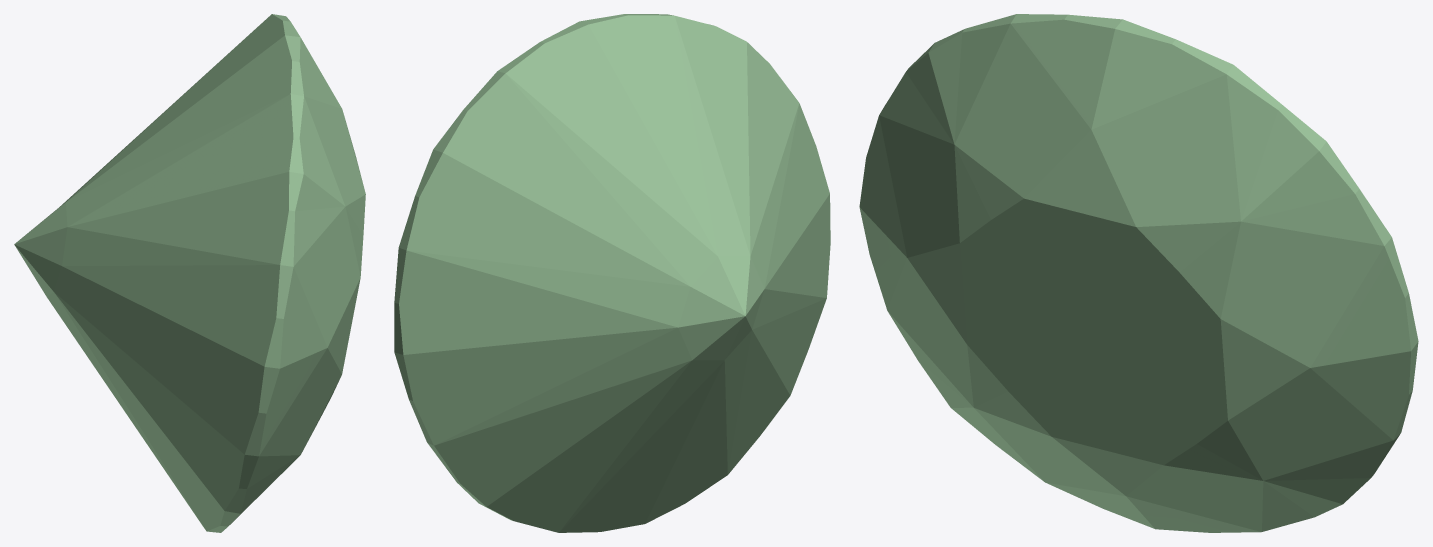
Rendered from TR4_8shapes_Round_Classic_Stone.001 3.glb.
3 views of the same model, side by side, from view 1: azimuth 30°, elevation 25°; view 2: azimuth 150°, elevation 25°; view 3: azimuth 270°, elevation 25° (orthographic). The views are drawn at different scales.
Visible parts, largest first — view 1: TR4_8shapes_Round_Classic_Stone.001; view 2: TR4_8shapes_Round_Classic_Stone.001; view 3: TR4_8shapes_Round_Classic_Stone.001.
Part boxes in pixels (x1,y1,x2,y2): TR4_8shapes_Round_Classic_Stone.001: (14, 14, 365, 532); TR4_8shapes_Round_Classic_Stone.001: (394, 14, 830, 532); TR4_8shapes_Round_Classic_Stone.001: (859, 14, 1418, 532).
Size of the model in its own units: 0.3323 by 0.4885 by 0.4544.
